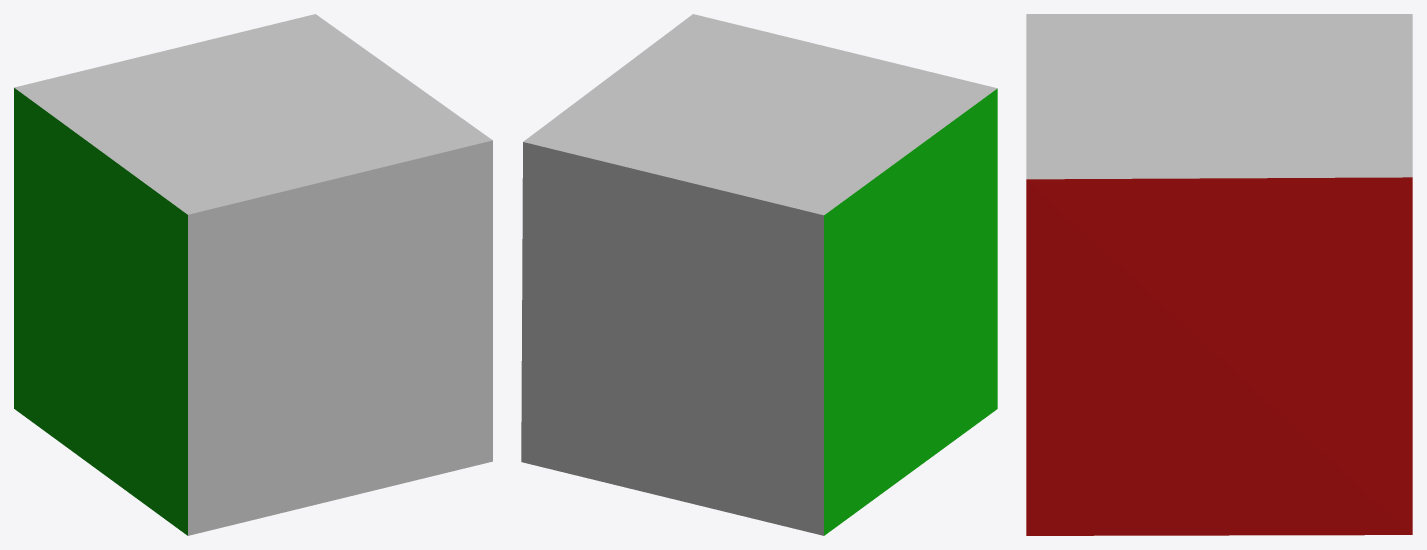
Rendered from CornellBox.obj.
The picture shows the model from 3 angles, left to right: view 1: azimuth 30°, elevation 25°; view 2: azimuth 150°, elevation 25°; view 3: azimuth 270°, elevation 25°; orthographic projection. The views are drawn at different scales.
Visible parts, largest first — view 1: WallsFloorAndCeiling; view 2: WallsFloorAndCeiling; view 3: WallsFloorAndCeiling.
Part boxes in pixels (<box>): WallsFloorAndCeiling: <box>14,14,492,535</box>; WallsFloorAndCeiling: <box>521,14,997,535</box>; WallsFloorAndCeiling: <box>1026,14,1412,535</box>.
Bounding box in the file's own units: 556 × 559 × 549.
